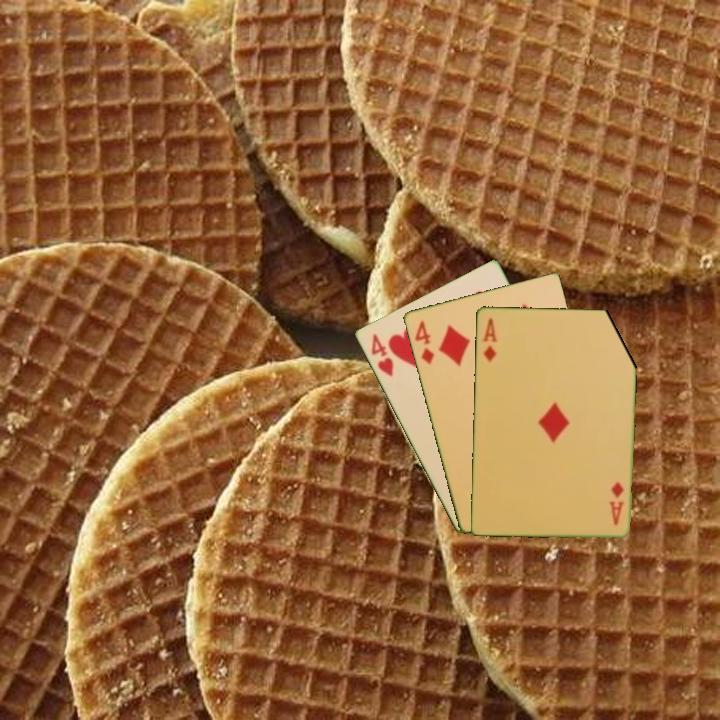4d: (411, 316, 437, 367)
4h: (367, 330, 396, 380)
Ad: (479, 314, 500, 364), (606, 478, 627, 528)
